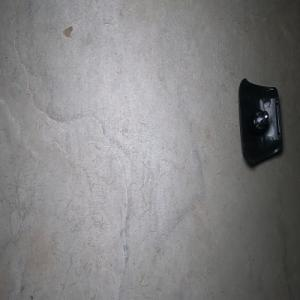LuggagePart: (237, 77, 283, 168)
